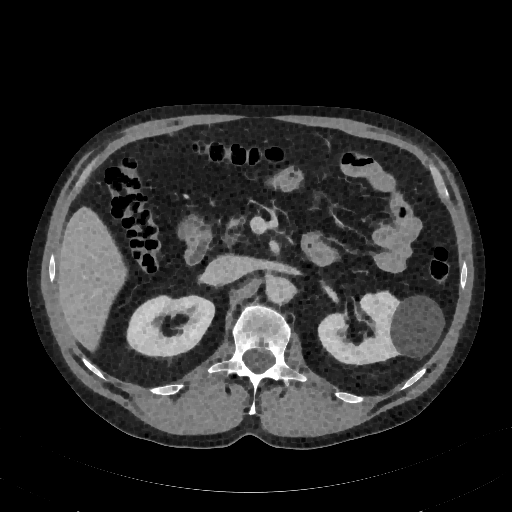Lesion: (389, 290, 448, 363)
